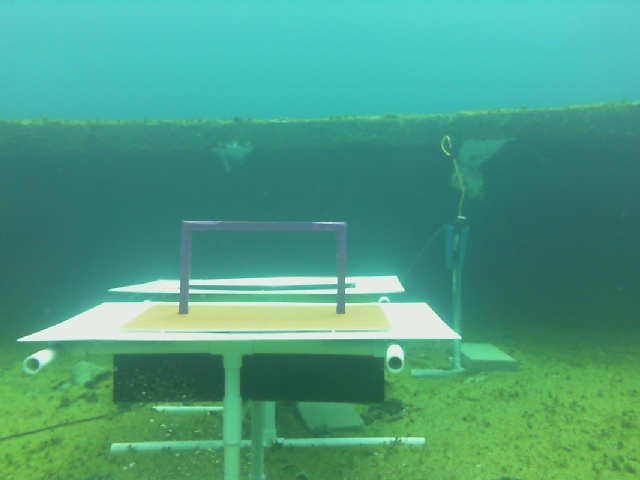bin_cover: (23, 212, 468, 469)
